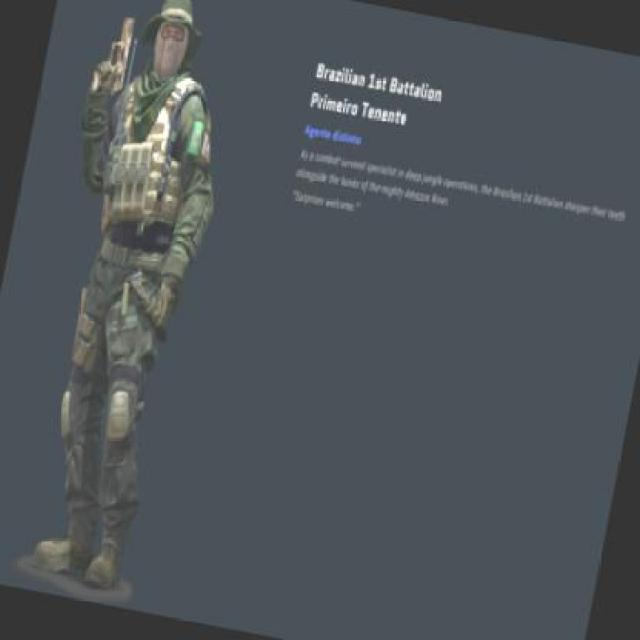MIL_Pax: (0, 0, 258, 604)
